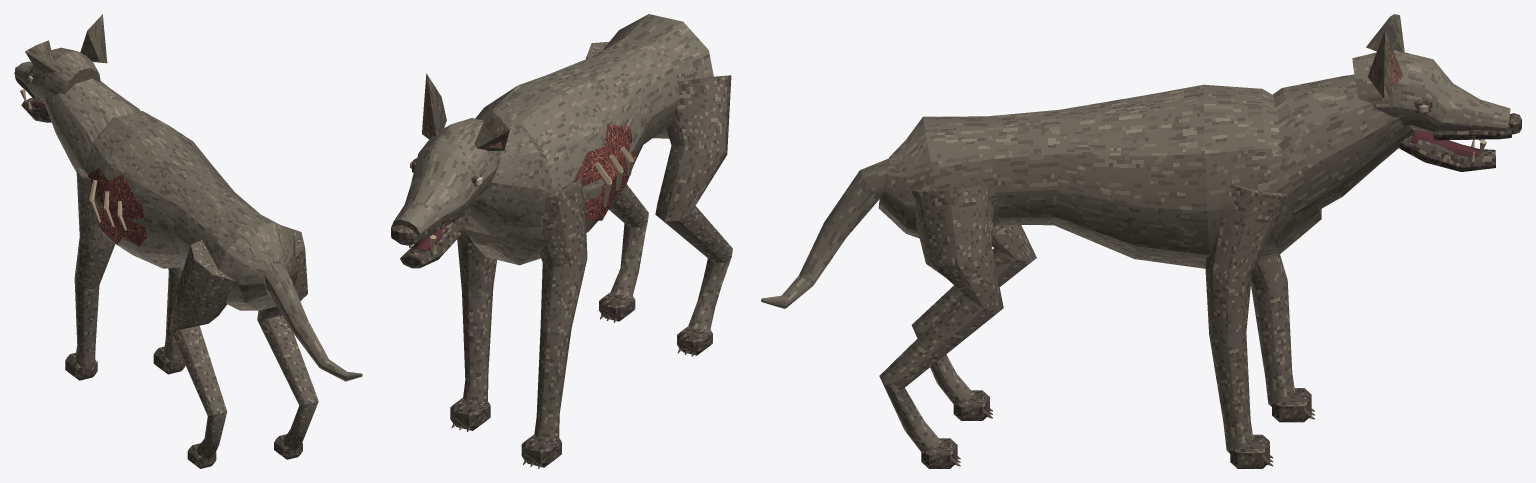
File: mon_zombie_dog.glb
The picture shows the model from 3 angles, left to right: view 1: azimuth 30°, elevation 25°; view 2: azimuth 150°, elevation 25°; view 3: azimuth 270°, elevation 25°; orthographic projection. The views are drawn at different scales.
Parts seen in each view (by area): view 1: mon_zombie_dog_mesh; view 2: mon_zombie_dog_mesh; view 3: mon_zombie_dog_mesh.
Boxes of the visible parts, x1,y1,x2,y2 form: mon_zombie_dog_mesh: (14,14,362,468); mon_zombie_dog_mesh: (391,14,732,468); mon_zombie_dog_mesh: (761,14,1521,468).
Bounding box in the file's own units: 0.2973 × 0.753 × 1.22.
1 material, 1 textured.
